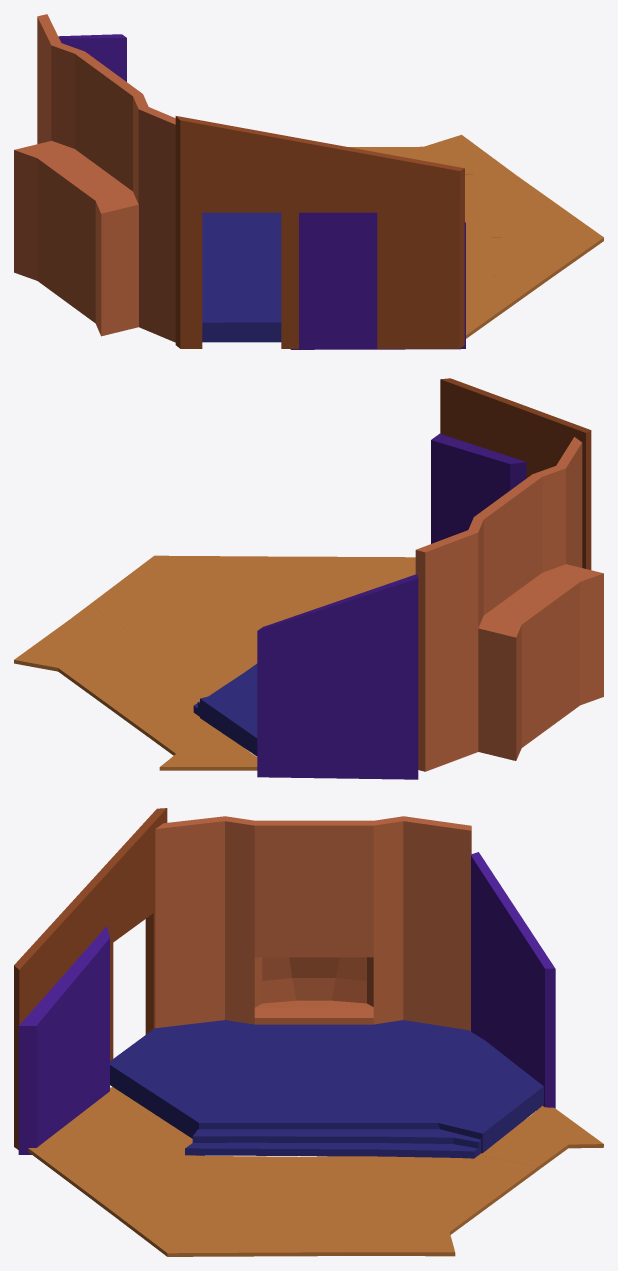
Rendered from MDL_Disected_Walls_01.fbx.
3 renders of one model, top to bottom at view 1: azimuth 30°, elevation 25°; view 2: azimuth 150°, elevation 25°; view 3: azimuth 270°, elevation 25°, orthographic. The views are drawn at different scales.
Parts seen in each view (by area): view 1: MDL_Living_Fireplace_01.001, MDL_Living_Wall_01.001, MDL_Living_Fireplace_01.003, MDL_Living_Fireplace_01.004, MDL_Living_Wall_01.002, MDL_Living_Wall_01.004, MDL_Living_Wall_03, MDL_Living_Floor_01.003, MDL_Living_Wall_01, MDL_Living_Floor_02, MDL_Living_Wall_03.002, MDL_Living_Floor_01 (+10 smaller); view 2: MDL_Living_Fireplace_01.001, MDL_Living_Fireplace_01.002, MDL_Living_Floor_02, MDL_Living_Wall_02, MDL_Living_Wall_02.001, MDL_Living_Fireplace_01.003, MDL_Living_Wall_02.002, MDL_Living_Floor_02.006, MDL_Living_Floor_02.005, MDL_Living_Floor_02.003, MDL_Living_Floor_02.004, MDL_Living_Wall_03.003 (+13 smaller); view 3: MDL_Living_Floor_01.003, MDL_Living_Fireplace_01.003, MDL_Living_Fireplace_01.001, MDL_Living_Fireplace_01.004, MDL_Living_Floor_01, MDL_Living_Fireplace_01.002, MDL_Living_Floor_02, MDL_Living_Floor_02.007, MDL_Living_Floor_02.006, MDL_Living_Floor_01.004, MDL_Living_Wall_03.003, MDL_Living_Floor_02.005 (+14 smaller).
Part boxes in pixels (x1,y1,x2,y2): MDL_Living_Fireplace_01.001: (14,140,138,336); MDL_Living_Wall_01.001: (377,152,464,348); MDL_Living_Fireplace_01.003: (51,43,148,203); MDL_Living_Fireplace_01.004: (138,107,175,342); MDL_Living_Wall_01.002: (202,120,281,212); MDL_Living_Wall_01.004: (175,116,202,348); MDL_Living_Wall_03: (290,212,343,349); MDL_Living_Floor_01.003: (202,212,281,312); MDL_Living_Wall_01: (299,138,377,212); MDL_Living_Floor_02: (465,190,603,237); MDL_Living_Wall_03.002: (343,212,396,349); MDL_Living_Floor_01: (202,256,281,342); MDL_Living_Fireplace_01.001: (478,564,603,760); MDL_Living_Fireplace_01.002: (415,530,478,771); MDL_Living_Floor_02: (90,556,257,693); MDL_Living_Wall_02: (364,574,418,779); MDL_Living_Wall_02.001: (311,592,365,778); MDL_Living_Fireplace_01.003: (468,466,565,627); MDL_Living_Wall_02.002: (257,609,313,777); MDL_Living_Floor_02.006: (14,620,198,735); MDL_Living_Floor_02.005: (182,556,328,623); MDL_Living_Floor_02.003: (69,604,212,710); MDL_Living_Floor_02.004: (147,716,257,770); MDL_Living_Wall_03.003: (431,433,474,543); MDL_Living_Floor_01.003: (110,1061,543,1153); MDL_Living_Fireplace_01.003: (225,816,403,922); MDL_Living_Fireplace_01.001: (225,918,403,1024); MDL_Living_Fireplace_01.004: (155,816,225,1028); MDL_Living_Floor_01: (110,1020,511,1064); MDL_Living_Fireplace_01.002: (403,816,471,1031); MDL_Living_Floor_02: (167,1156,429,1256); MDL_Living_Floor_02.007: (28,1087,190,1201); MDL_Living_Floor_02.006: (344,1155,538,1256); MDL_Living_Floor_01.004: (185,1129,481,1158); MDL_Living_Wall_03.003: (18,986,66,1154); MDL_Living_Floor_02.005: (113,1155,271,1246).
Size of the model in its own units: 1086 by 516 by 1144.
